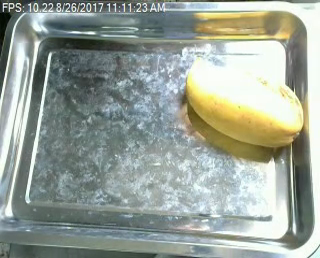Mango: (182, 56, 306, 153)
